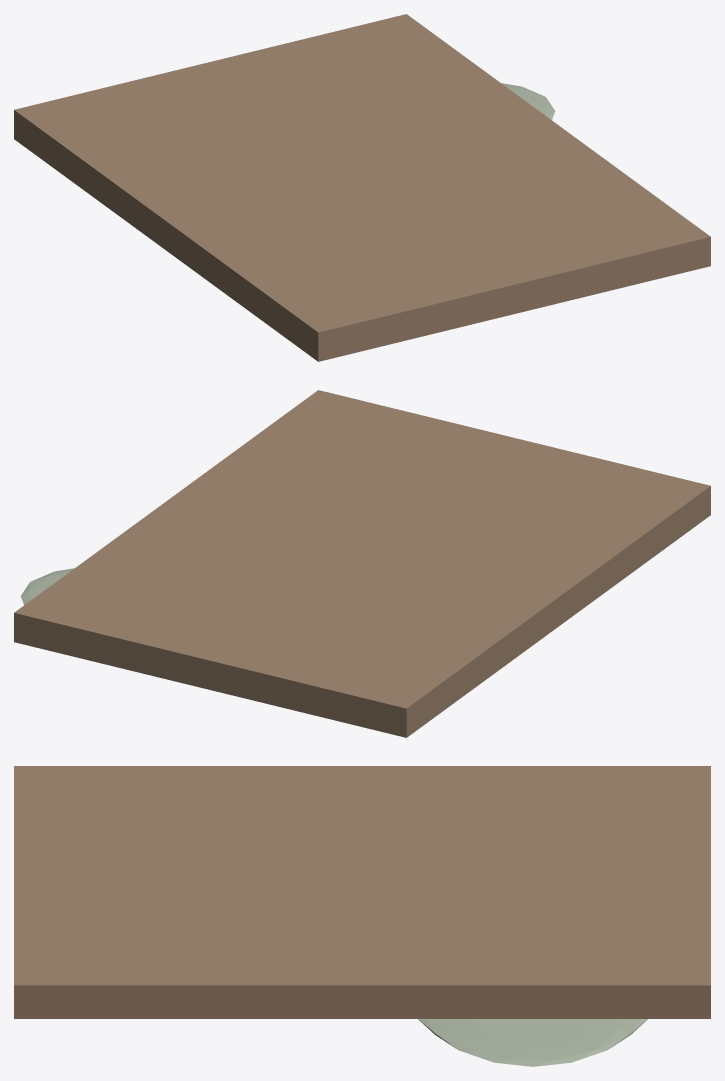
Rendered from framed_art.glb.
3 views of the same model, one above another, from view 1: azimuth 30°, elevation 25°; view 2: azimuth 150°, elevation 25°; view 3: azimuth 270°, elevation 25° (orthographic). The views are drawn at different scales.
Parts seen in each view (by area): view 1: frame, abstract_hill; view 2: frame, abstract_hill; view 3: frame, abstract_hill.
Part boxes in pixels (x1=…): frame: x1=14, y1=14, x2=710, y2=361; abstract_hill: x1=501, y1=83, x2=555, y2=119; frame: x1=14, y1=390, x2=710, y2=737; abstract_hill: x1=20, y1=568, x2=74, y2=604; frame: x1=14, y1=766, x2=710, y2=1018; abstract_hill: x1=418, y1=1019, x2=647, y2=1066.
Size of the model in its own units: 0.81 by 0.078 by 0.94.
